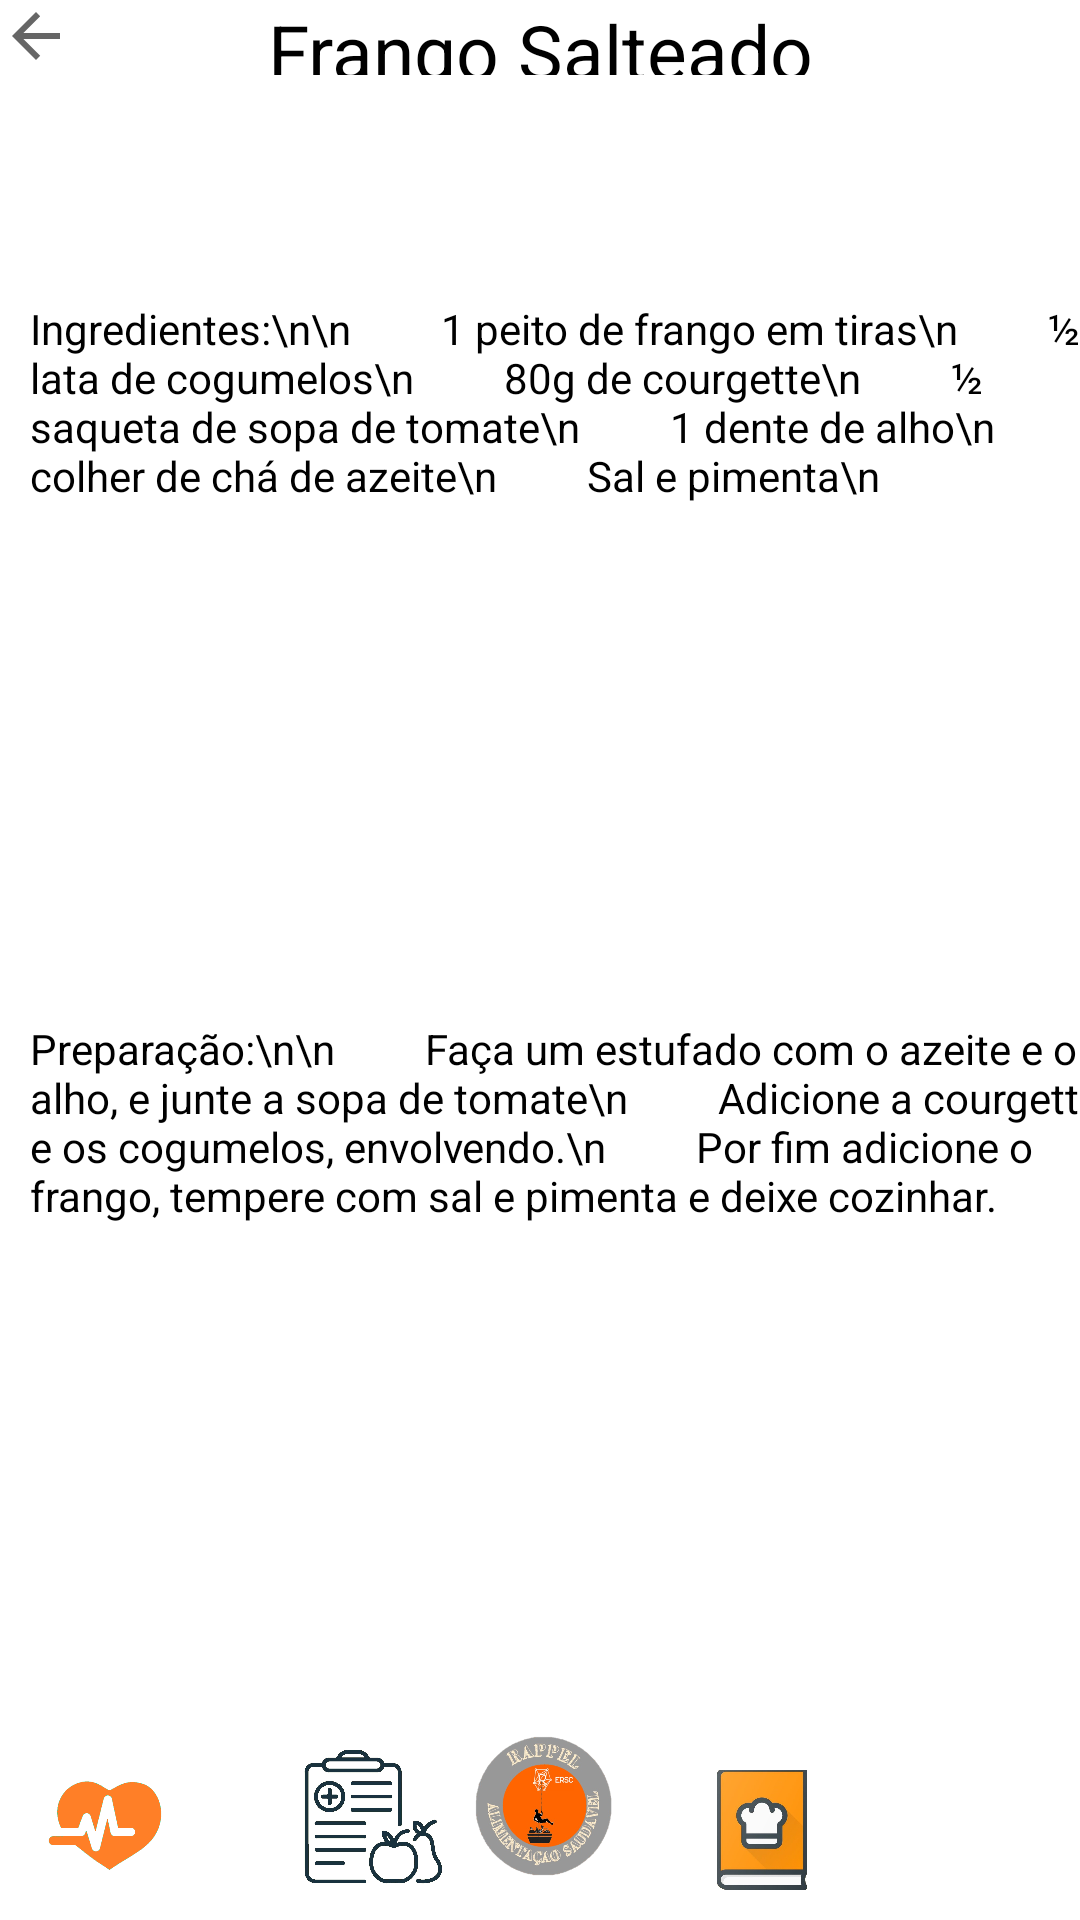

Icons on this 1080x1920 Android screen, each with the point to tap as [x,y]:
plano: [373,1816]
planodesaude: [105,1825]
